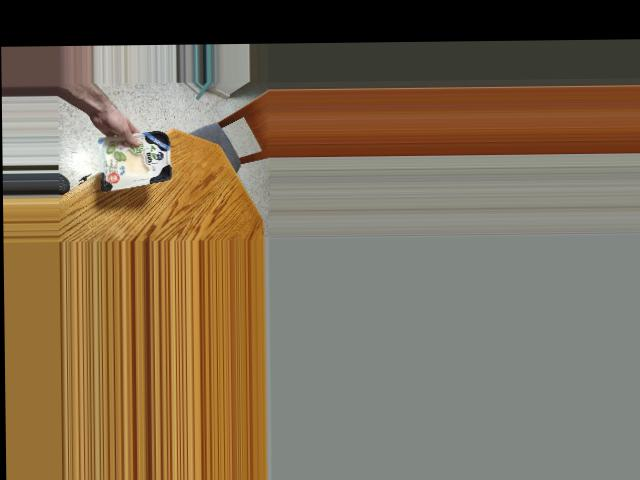cheese: (90, 127, 181, 191)
